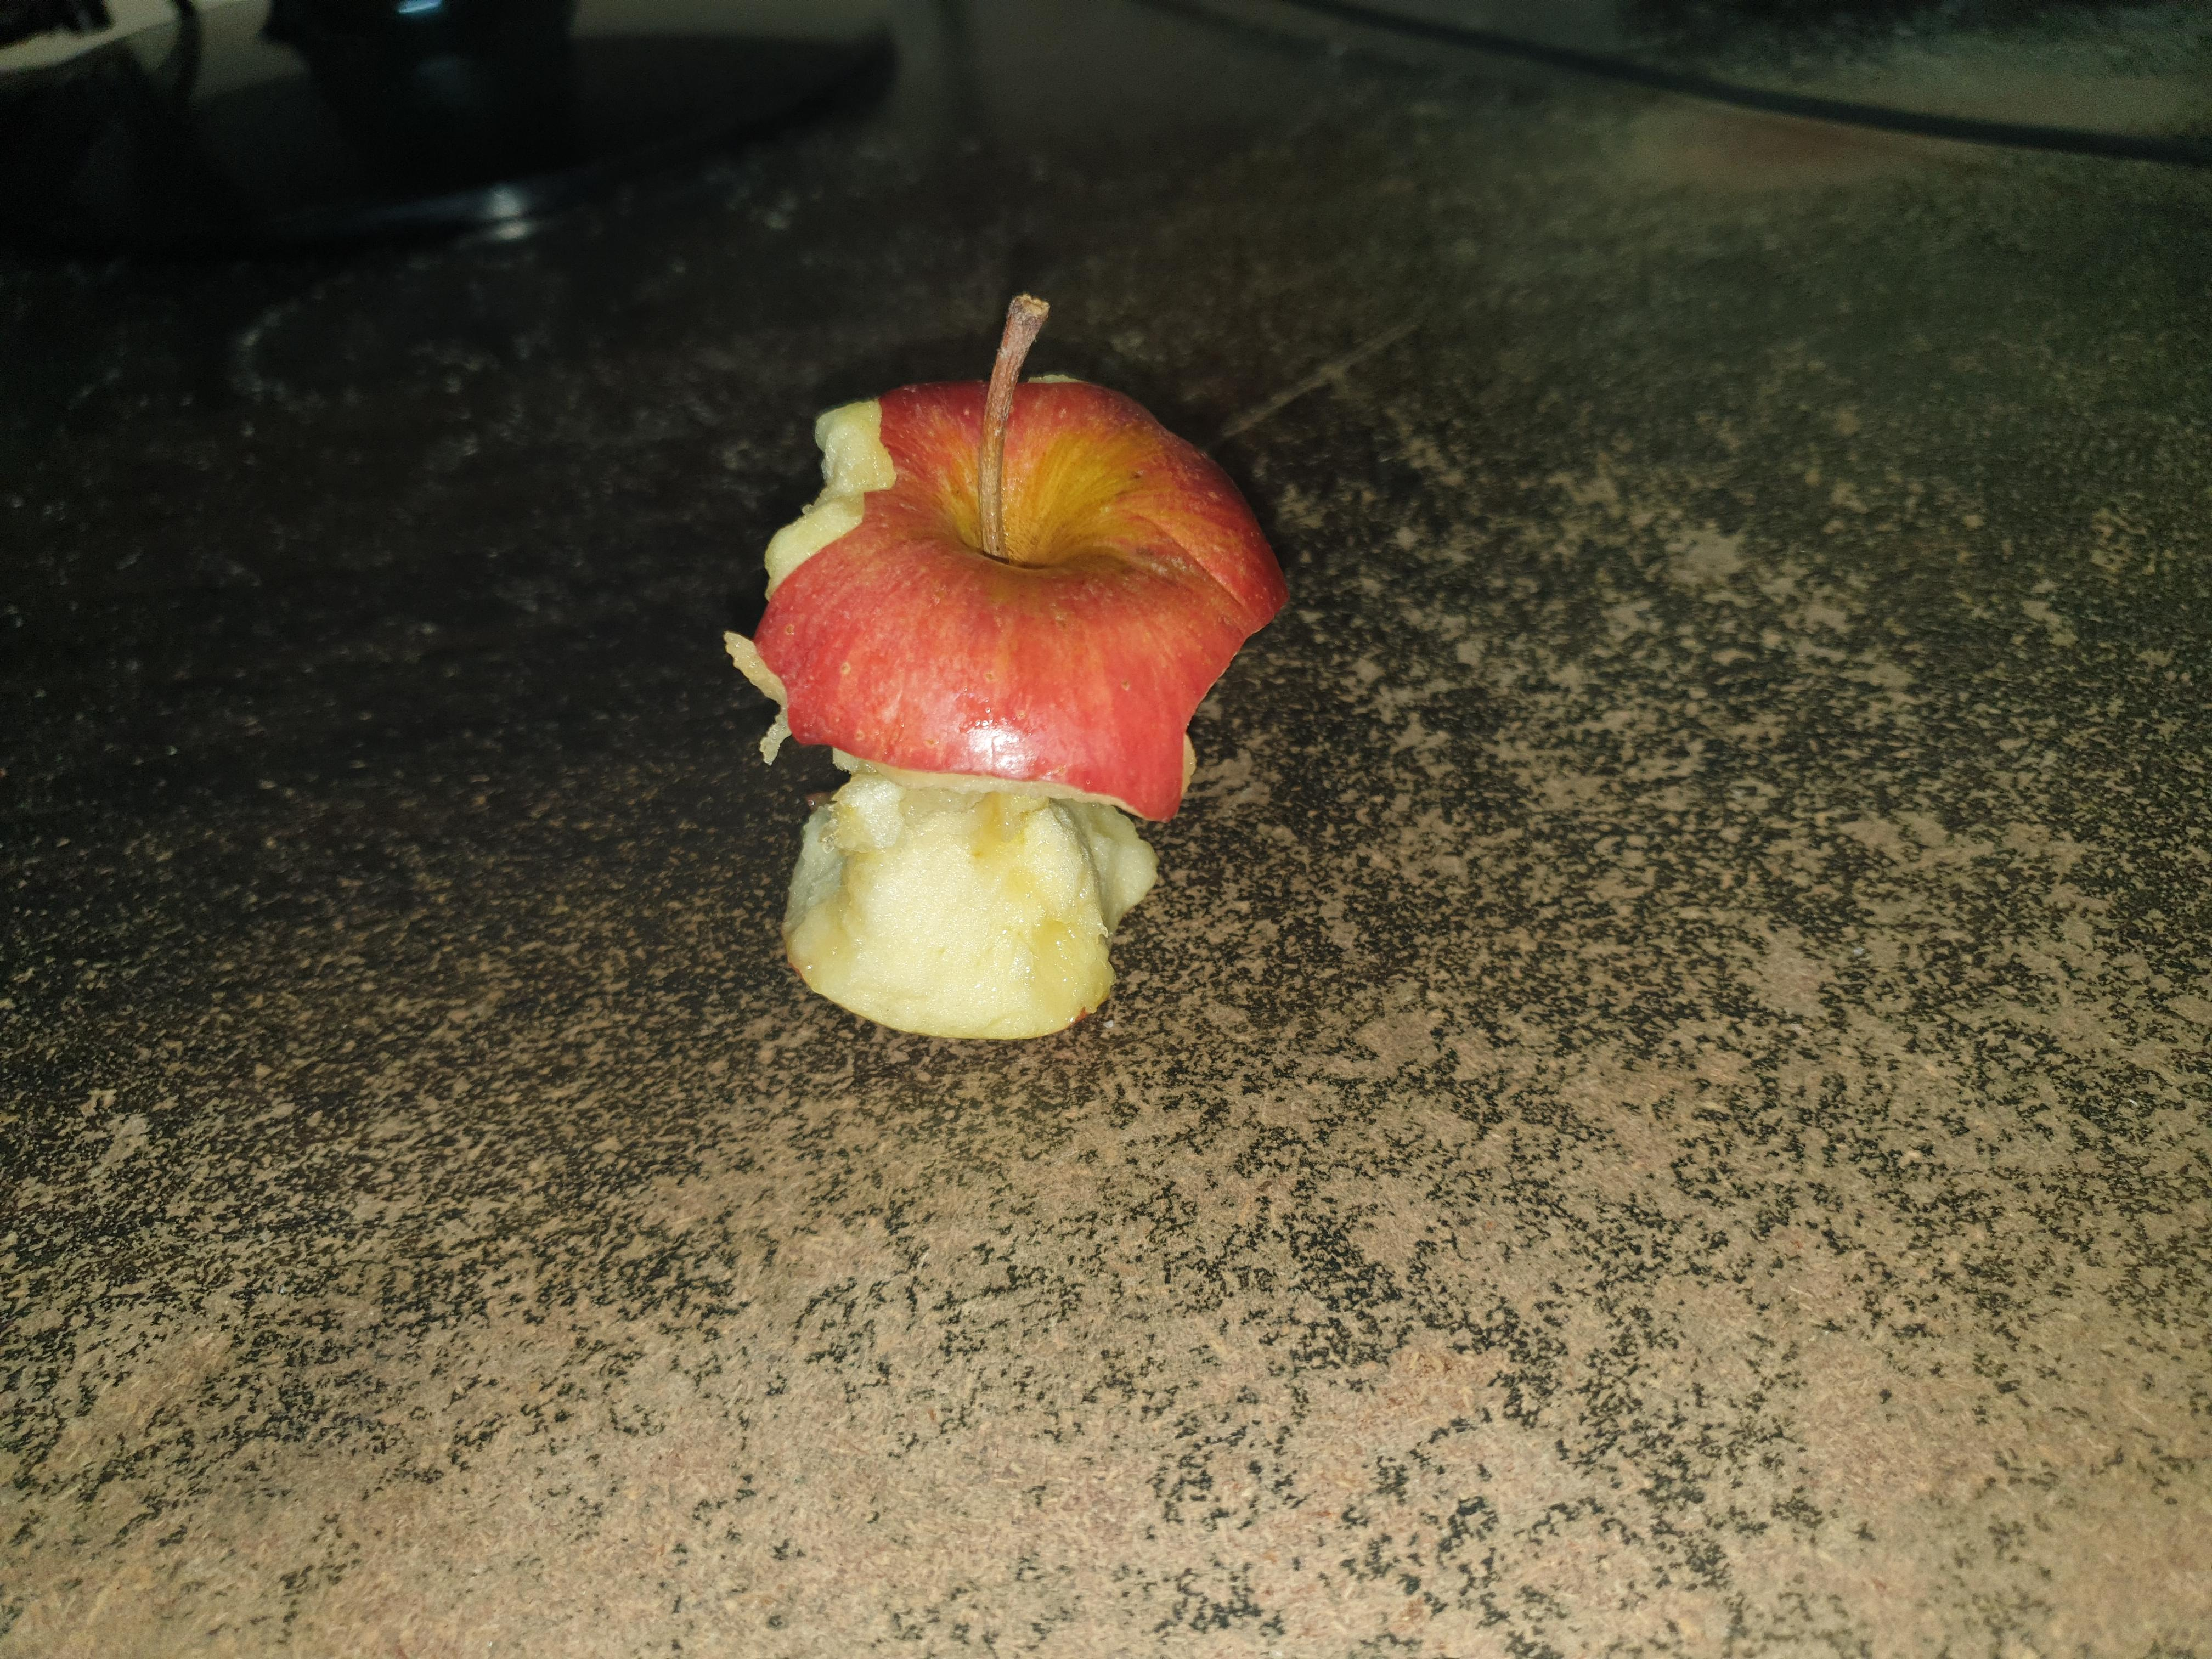Apple: (710, 278, 1323, 1044)
